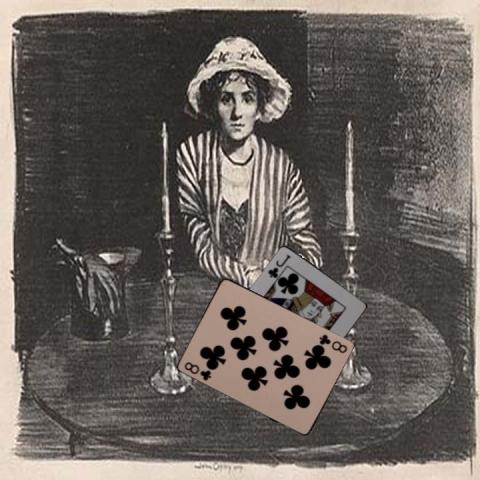8c: (316, 331, 349, 355), (181, 359, 213, 382)
Jc: (264, 252, 292, 280)
